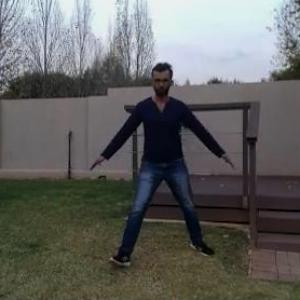land: (93, 58, 218, 274)
